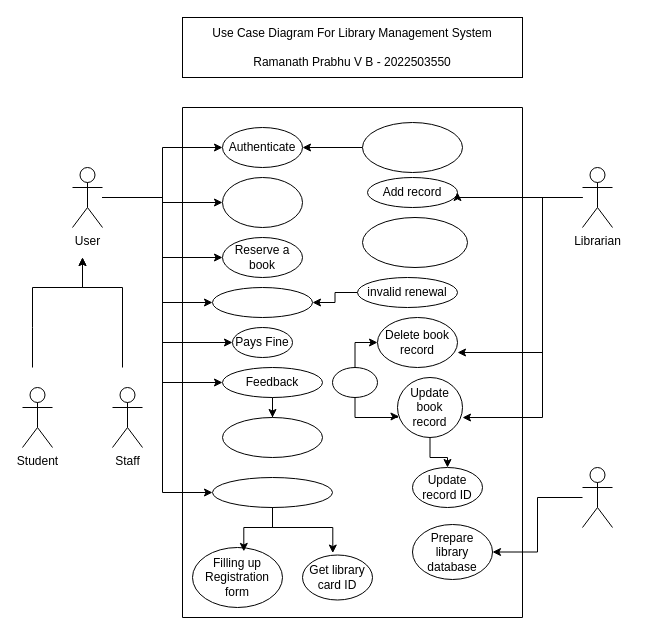
The diagram is 660 pixels wide and 635 high, and some of its shapes have lost their labels. Here are the shapes that lost their labels. From the top down, the centre of each, then its label:
(412,147): Invalid username or password
(262,202): Requests new book
(415,242): Search and update database
(262,302): Renew a book
(355,382): Invalid ID
(272,437): Filling up Feedback form
(272,492): Register new user
(597,497): Library Database
